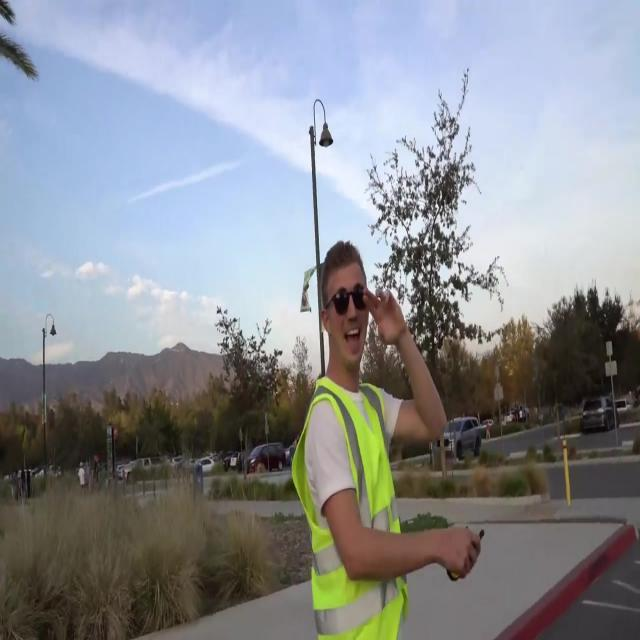Reflective-Jacket: (287, 371, 415, 640)
